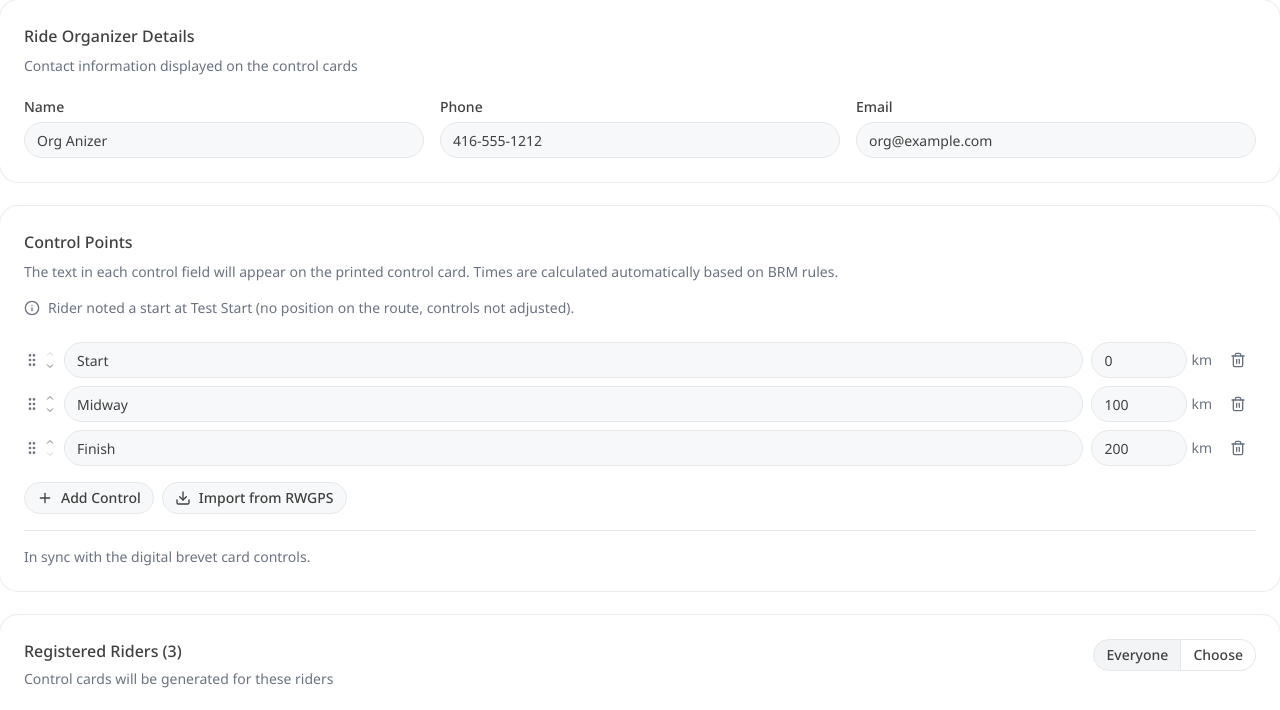
ControlCardsForm digital-card sync › shows the drift note when a prefilled row is edited, and Reset to saved restores it
The width and height of the screenshot is (1280, 710).
Expected: the text "In sync with the digital brevet card controls." is shown, [24, 547, 310, 566]
Step 1. Type "X" into the 2nd field with placeholder "Control name" → {"x": 574, "y": 404}, box [64, 386, 1083, 422]
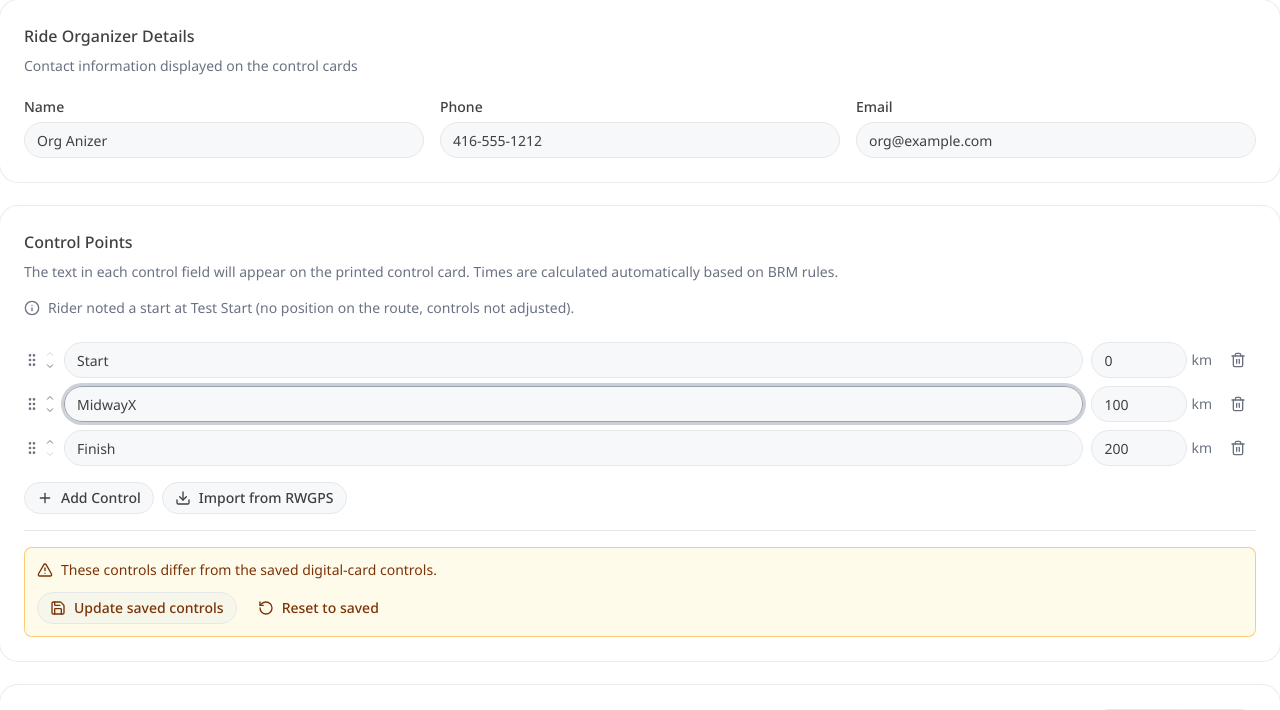
Now the text "These controls differ from the saved digital-card controls." is shown, box [61, 560, 437, 580]
Now the text "In sync with the digital brevet card controls" is gone
Step 2. Click the button "Reset to saved" → {"x": 318, "y": 608}, box [245, 592, 392, 624]
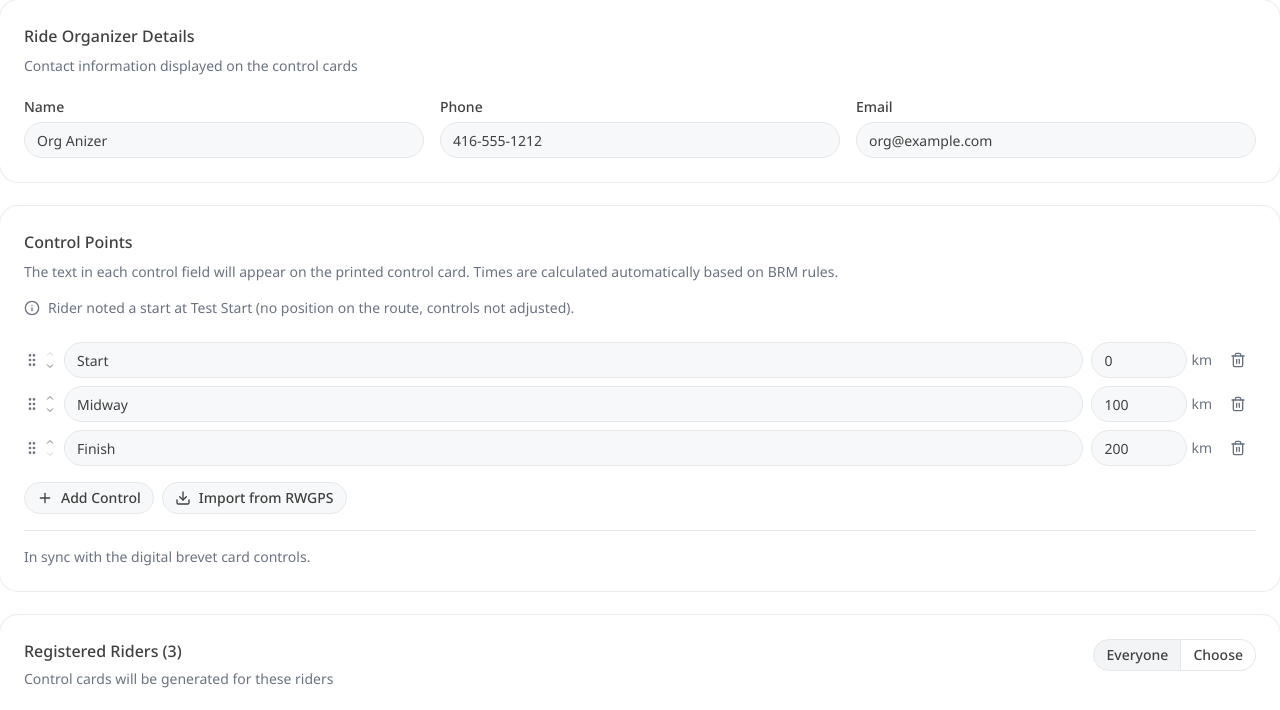
Now the text "These controls differ from the saved digital-card controls" is gone
Now the text "In sync with the digital brevet card controls." is shown, box [24, 547, 310, 566]
